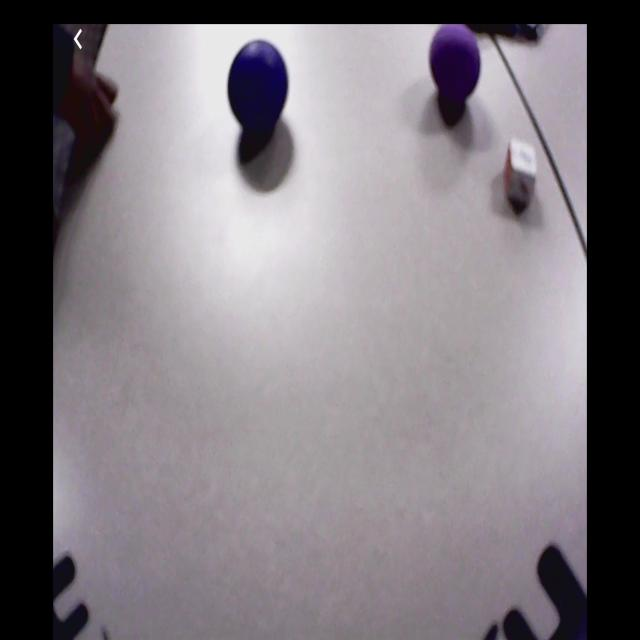ball: (228, 40, 289, 135), (429, 26, 482, 100)
